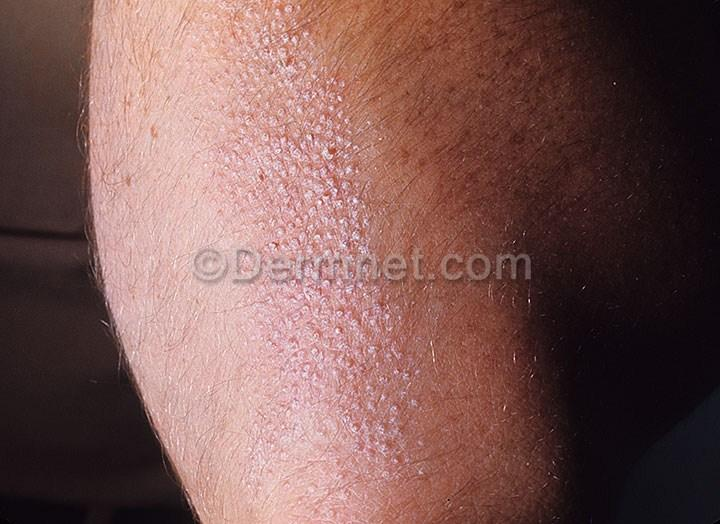edema 1: (212, 0, 431, 490)
